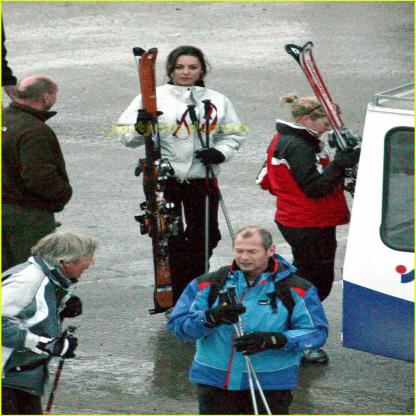face: (234, 240, 268, 272), (62, 249, 96, 279), (170, 56, 201, 86), (310, 114, 339, 139), (46, 86, 60, 111)
